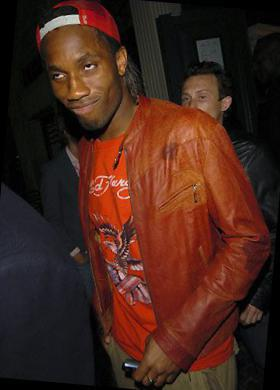Drunk: (40, 35, 123, 130)
